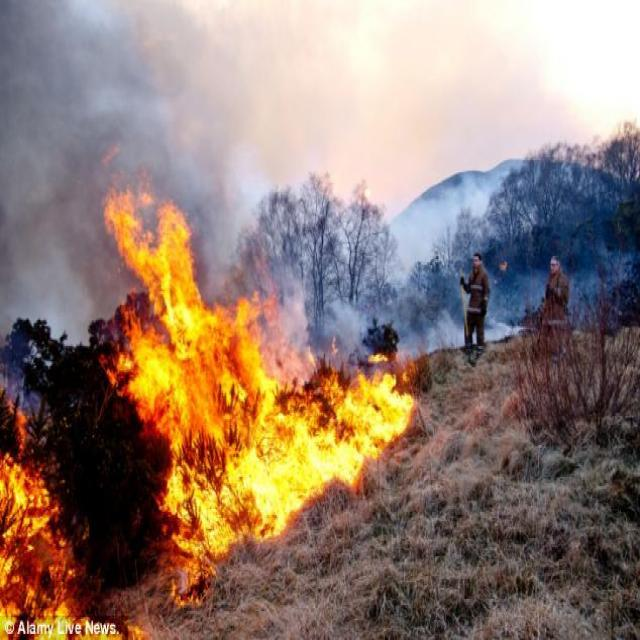Fire: (105, 190, 414, 535), (0, 398, 102, 640)
Smoke: (0, 1, 285, 186), (1, 186, 103, 348)
